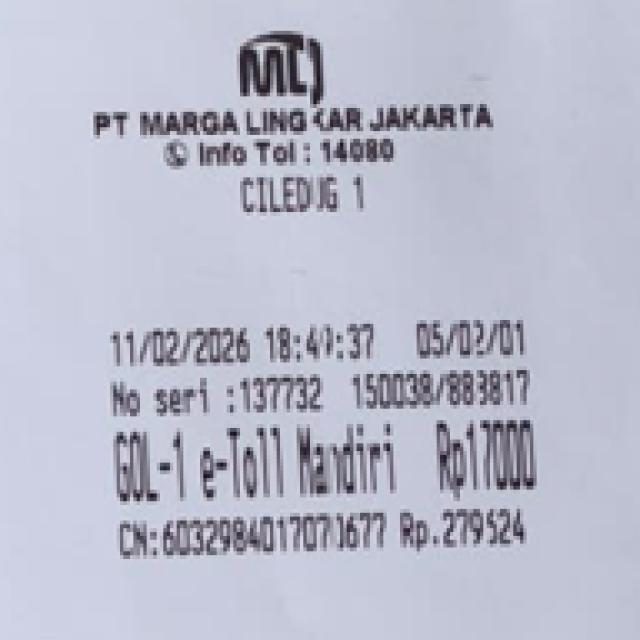date: (107, 324, 380, 366)
store: (86, 100, 524, 135)
total: (424, 418, 553, 493)
